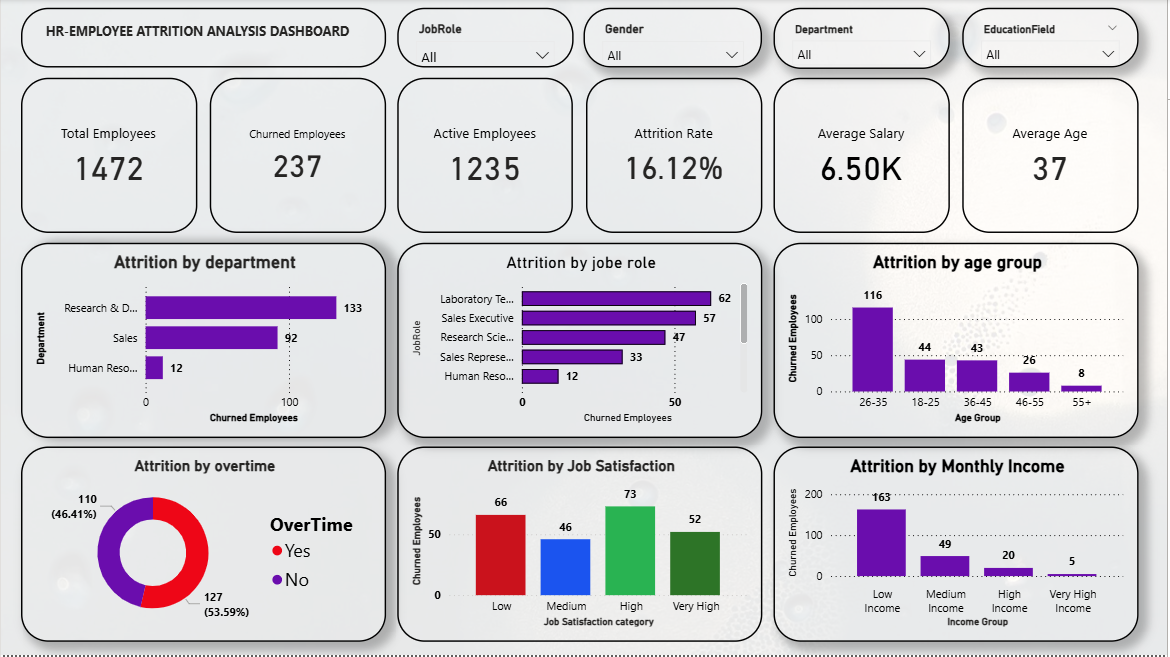

The page's visual inventory and layout, read from the dashboard file:
{"tool":"powerbi","page":{"name":"Page 1","canvas":[1280,720],"ordinal":0},"visuals":[{"type":"cardVisual","fields":{"Data":["HR-Employee-Attrition.Total Employees"]},"box":[22,86.4,193.5,170.2],"z":0},{"type":"cardVisual","fields":{"Data":["HR-Employee-Attrition.Churned Employees"]},"box":[229.2,86.4,193.5,170.2],"z":1000},{"type":"cardVisual","fields":{"Data":["HR-Employee-Attrition.Attrition Rat"]},"box":[642.2,86.4,193.5,170.2],"z":3000},{"type":"cardVisual","fields":{"Data":["HR-Employee-Attrition.Average Age"]},"box":[1055.2,86.4,193.5,170.2],"z":4000},{"type":"cardVisual","fields":{"Data":["HR-Employee-Attrition.Average Salary"]},"box":[848,86.4,193.5,170.2],"z":5000},{"type":"clusteredBarChart","title":"Attrition by department","fields":{"Category":["HR-Employee-Attrition.Department"],"Y":["HR-Employee-Attrition.Churned Employees"]},"box":[22,267.6,400.7,214.1],"z":6000},{"type":"clusteredBarChart","title":"Attrition by jobe role","fields":{"Category":["HR-Employee-Attrition.JobRole"],"Y":["HR-Employee-Attrition.Churned Employees"]},"box":[435,267.6,400.7,214.1],"z":7000},{"type":"clusteredColumnChart","title":"Attrition by age group","fields":{"Category":["HR-Employee-Attrition.Age Group"],"Y":["HR-Employee-Attrition.Churned Employees"]},"box":[848,267.6,400.7,214.1],"z":8000},{"type":"donutChart","title":"Attrition by overtime","fields":{"Category":["HR-Employee-Attrition.OverTime"],"Y":["HR-Employee-Attrition.Churned Employees"]},"box":[22,491.3,400.7,214.1],"z":9000},{"type":"clusteredColumnChart","title":"Attrition by Monthly Income","fields":{"Category":["HR-Employee-Attrition.Income Group"],"Y":["HR-Employee-Attrition.Churned Employees"]},"box":[848,491.3,393.8,214.1],"z":10000},{"type":"textbox","box":[22,9.6,400.7,65.9],"z":11000},{"type":"slicer","fields":{"Values":["HR-Employee-Attrition.Department"]},"box":[848,9.6,193.5,67.2],"z":12000},{"type":"slicer","fields":{"Values":["HR-Employee-Attrition.Gender"]},"box":[639.5,9.6,196.2,65.9],"z":13000},{"type":"slicer","fields":{"Values":["HR-Employee-Attrition.EducationField"]},"box":[1055.2,9.6,193.5,65.9],"z":14000},{"type":"slicer","fields":{"Values":["HR-Employee-Attrition.JobRole"]},"box":[435,9.6,193.5,65.9],"z":15000},{"type":"clusteredColumnChart","title":"Attrition  by Job Satisfaction ","fields":{"Y":["HR-Employee-Attrition.Churned Employees"],"Category":["HR-Employee-Attrition.Job Satisfaction category"]},"box":[435,491,401,214],"z":16000},{"type":"cardVisual","fields":{"Data":["HR-Employee-Attrition.Active Employees"]},"box":[435,86,193,170],"z":16001}]}

Visuals, with their boxes in screenshot pixels (x1, y1, x2, y2), scaled from the page's 1280x720 canvas onto the 1170x657 screenshot:
cardVisual - HR-Employee-Attrition.Total Employees: region(20, 79, 197, 234)
cardVisual - HR-Employee-Attrition.Churned Employees: region(210, 79, 386, 234)
cardVisual - HR-Employee-Attrition.Attrition Rat: region(587, 79, 764, 234)
cardVisual - HR-Employee-Attrition.Average Age: region(965, 79, 1141, 234)
cardVisual - HR-Employee-Attrition.Average Salary: region(775, 79, 952, 234)
"Attrition by department" clusteredBarChart: region(20, 244, 386, 440)
"Attrition by jobe role" clusteredBarChart: region(398, 244, 764, 440)
"Attrition by age group" clusteredColumnChart: region(775, 244, 1141, 440)
"Attrition by overtime" donutChart: region(20, 448, 386, 644)
"Attrition by Monthly Income" clusteredColumnChart: region(775, 448, 1135, 644)
textbox: region(20, 9, 386, 69)
slicer - HR-Employee-Attrition.Department: region(775, 9, 952, 70)
slicer - HR-Employee-Attrition.Gender: region(585, 9, 764, 69)
slicer - HR-Employee-Attrition.EducationField: region(965, 9, 1141, 69)
slicer - HR-Employee-Attrition.JobRole: region(398, 9, 574, 69)
"Attrition  by Job Satisfaction " clusteredColumnChart: region(398, 448, 764, 643)
cardVisual - HR-Employee-Attrition.Active Employees: region(398, 78, 574, 234)
